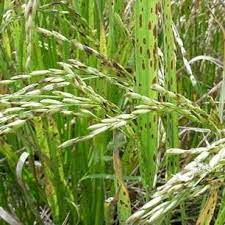Bercak Coklat: (136, 13, 144, 30), (146, 18, 153, 33), (137, 46, 145, 57), (142, 36, 147, 47)
